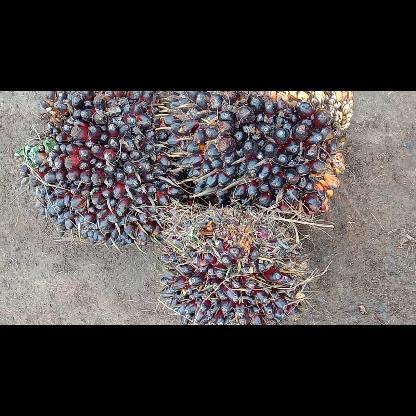TBS mentah: (18, 91, 196, 249), (162, 91, 354, 219), (156, 200, 312, 324)
